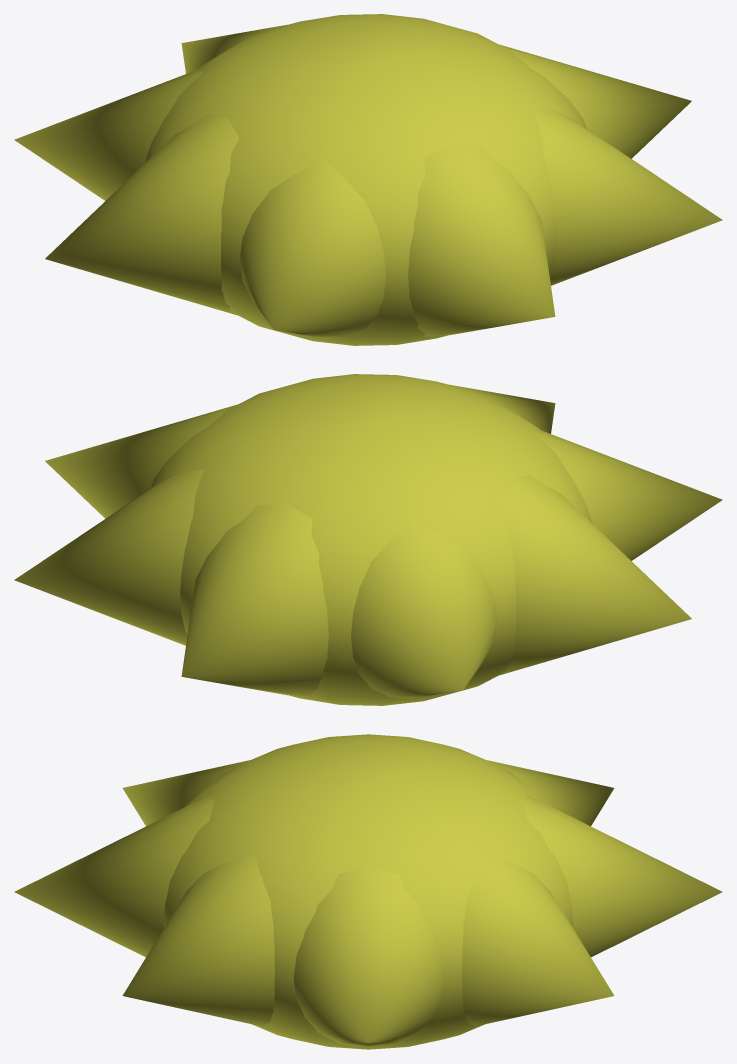
Rendered from NekoStar.fbx.
3 views of the same model, one above another, from view 1: azimuth 30°, elevation 25°; view 2: azimuth 150°, elevation 25°; view 3: azimuth 270°, elevation 25° (orthographic). The views are drawn at different scales.
Visible parts, largest first — view 1: pSphere3, pSphere1, pCone3, pCone2, pCone5, pCone7, pCone1, pCone8, pCone4; view 2: pSphere3, pSphere1, pCone4, pCone8, pCone2, pCone6, pCone5, pCone1, pCone3; view 3: pSphere3, pSphere1, pCone1, pCone7, pCone6, pCone3, pCone4, pCone5, pCone8.
Boxes of the visible parts, x1=… form: pSphere3: x1=15, y1=14, x2=713, y2=336; pSphere1: x1=144, y1=14, x2=586, y2=345; pCone3: x1=408, y1=143, x2=555, y2=336; pCone2: x1=45, y1=114, x2=239, y2=315; pCone5: x1=239, y1=160, x2=385, y2=338; pCone7: x1=532, y1=109, x2=722, y2=285; pCone1: x1=516, y1=55, x2=691, y2=158; pCone8: x1=14, y1=72, x2=203, y2=200; pCone4: x1=181, y1=24, x2=287, y2=73; pSphere3: x1=16, y1=374, x2=722, y2=704; pSphere1: x1=150, y1=374, x2=592, y2=705; pCone4: x1=181, y1=503, x2=328, y2=696; pCone8: x1=351, y1=520, x2=497, y2=698; pCone2: x1=498, y1=475, x2=691, y2=675; pCone6: x1=14, y1=469, x2=204, y2=641; pCone5: x1=533, y1=430, x2=716, y2=558; pCone1: x1=56, y1=454, x2=157, y2=511; pCone3: x1=449, y1=384, x2=555, y2=433; pSphere3: x1=118, y1=735, x2=703, y2=1049; pSphere1: x1=163, y1=734, x2=573, y2=1049; pCone1: x1=293, y1=866, x2=443, y2=1043; pCone7: x1=122, y1=855, x2=274, y2=1026; pCone6: x1=462, y1=855, x2=614, y2=1026; pCone3: x1=14, y1=795, x2=213, y2=957; pCone4: x1=523, y1=795, x2=722, y2=957; pCone5: x1=122, y1=760, x2=250, y2=826; pCone8: x1=486, y1=760, x2=614, y2=826.
Bounding box in the file's own units: 3.24 × 1.28 × 3.24.
